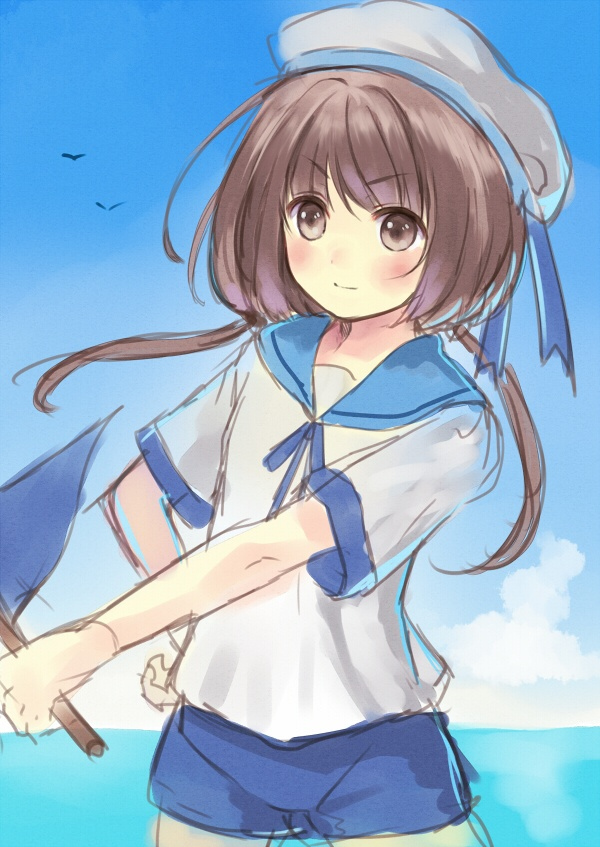纸片人正脸: (202, 17, 546, 338)
